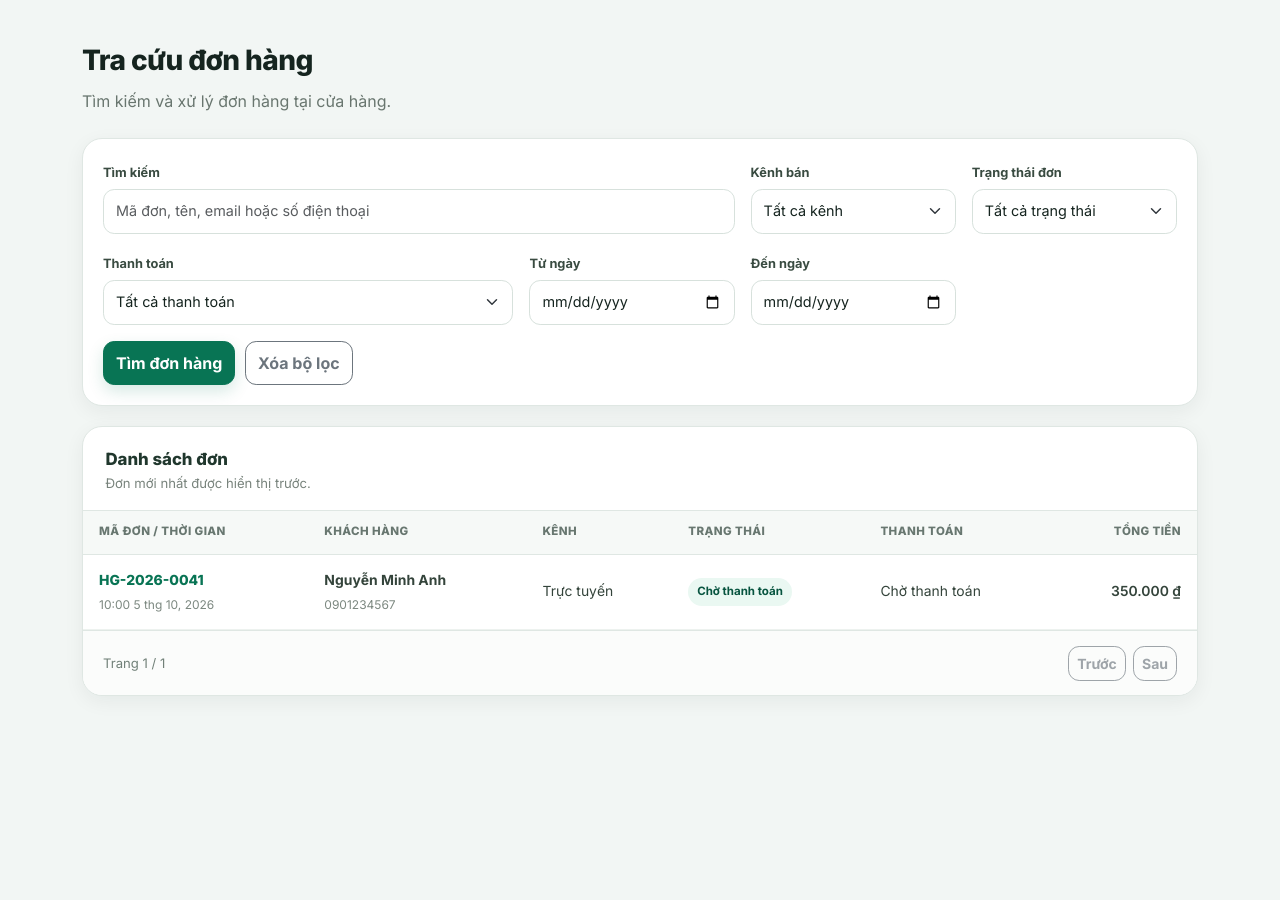
Test: StaffOrdersPage › confirms a pending order and updates both dialog and list without reloading
Click the button with aria-label "Xem chi tiết đơn HG-2026-0041" at (151, 581), box top-left (99, 570), bottom-right (204, 592)
(page scrolled)
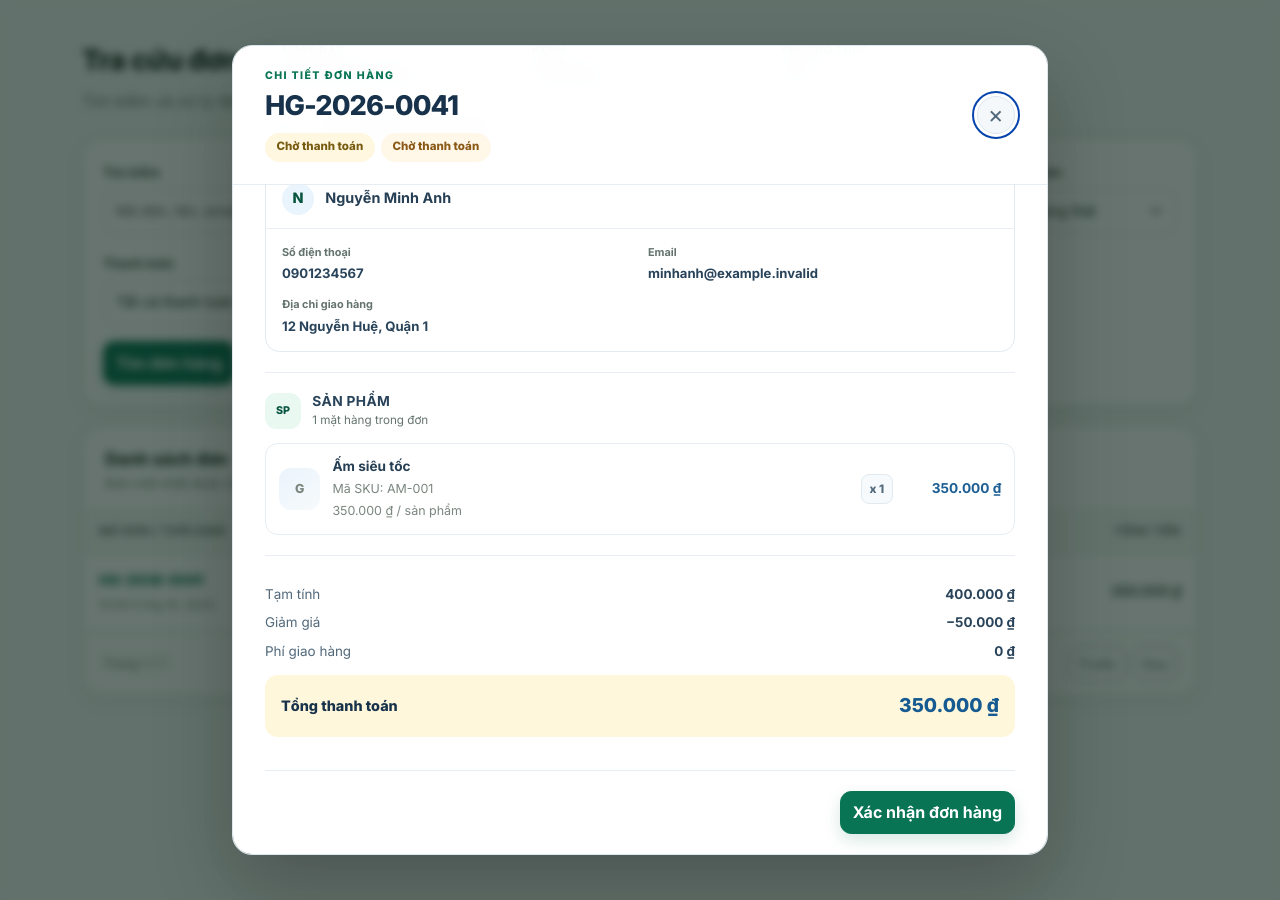
Click the button "Xác nhận đơn hàng" at (927, 812), box top-left (840, 791), bottom-right (1015, 834)
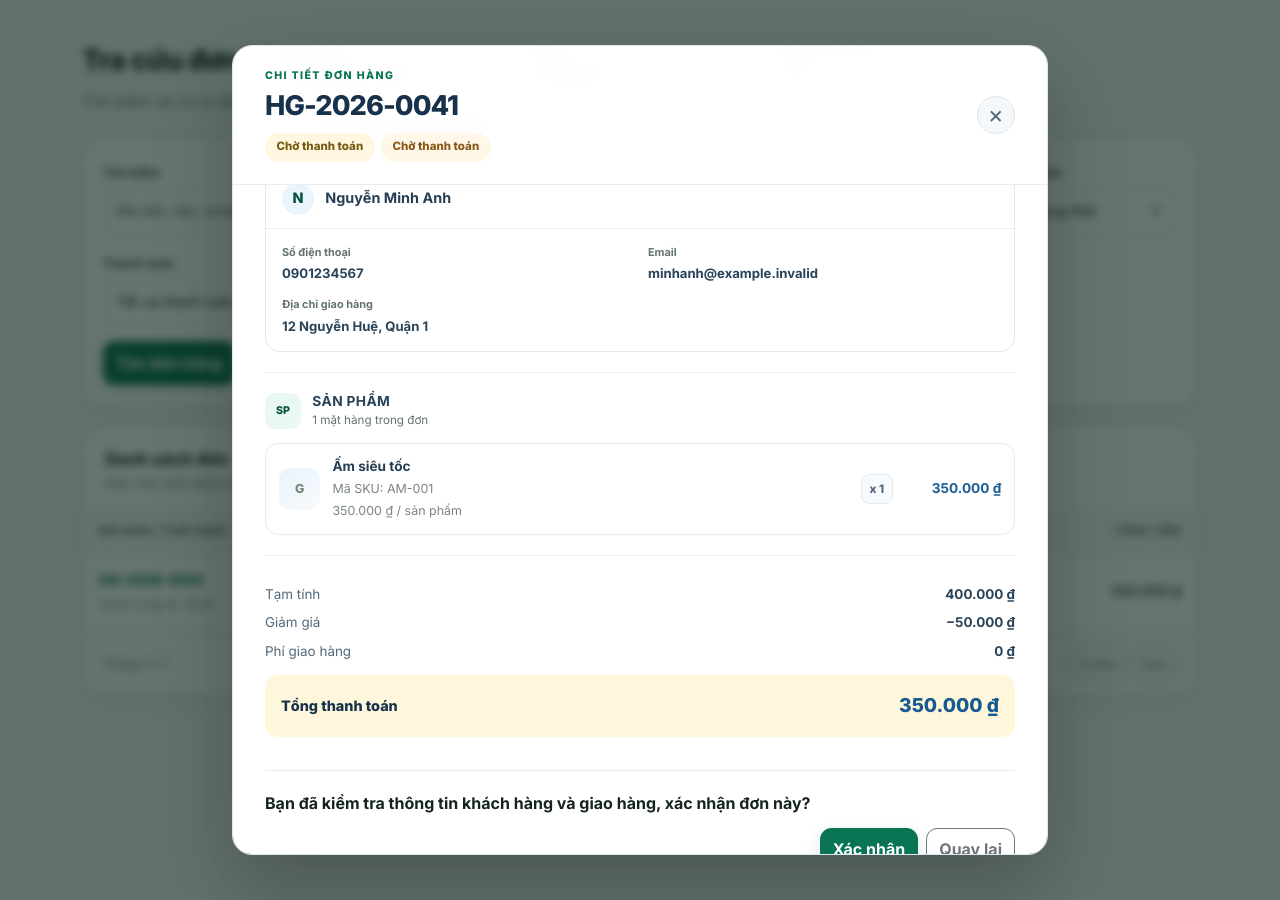
Click the button "Xác nhận" at (869, 849), box top-left (820, 828), bottom-right (918, 870)
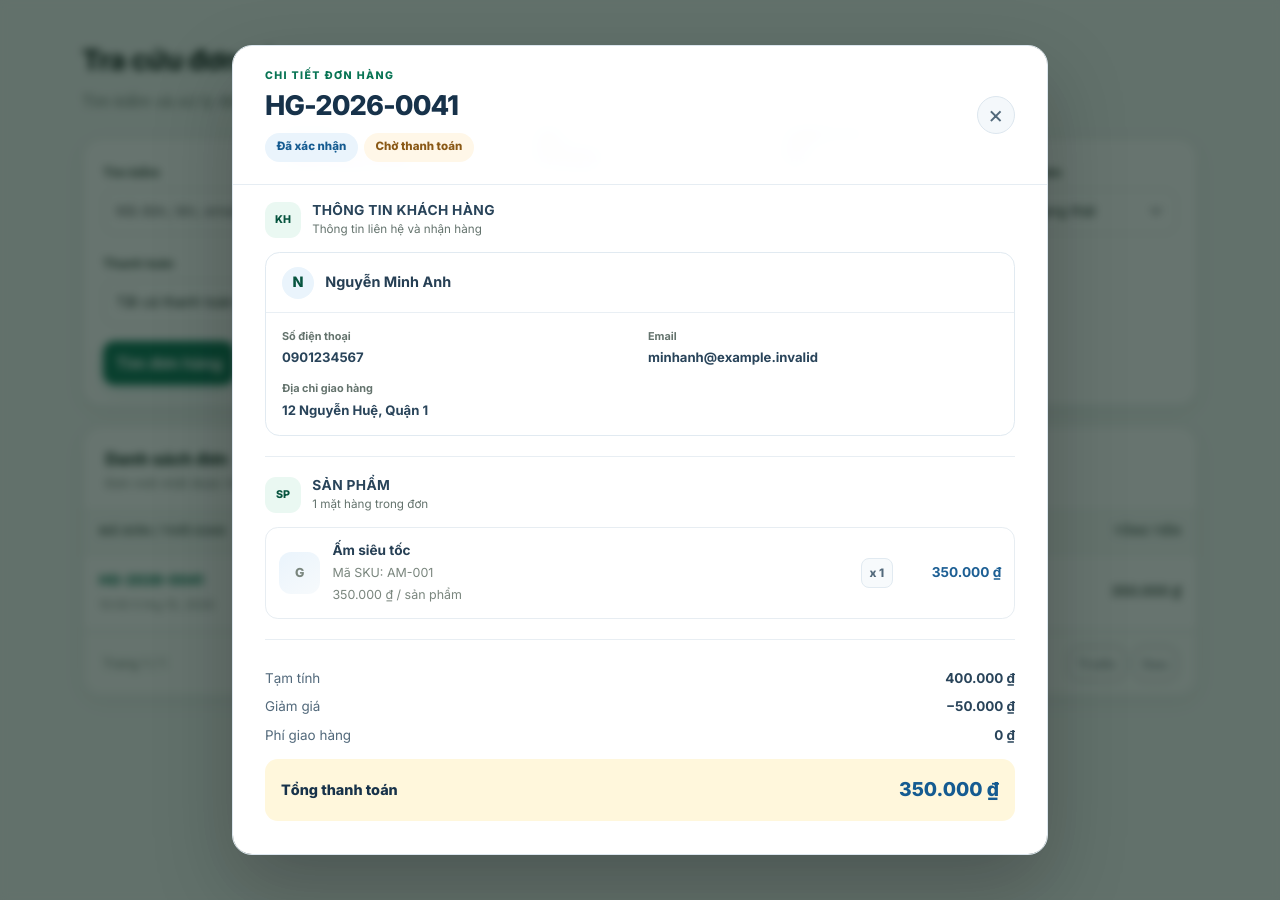
Expected: the text "Chờ thanh toán" is shown, top-left (364, 133), bottom-right (474, 162)
Expected: the text "Đã xác nhận" is shown, top-left (265, 133), bottom-right (358, 162)
